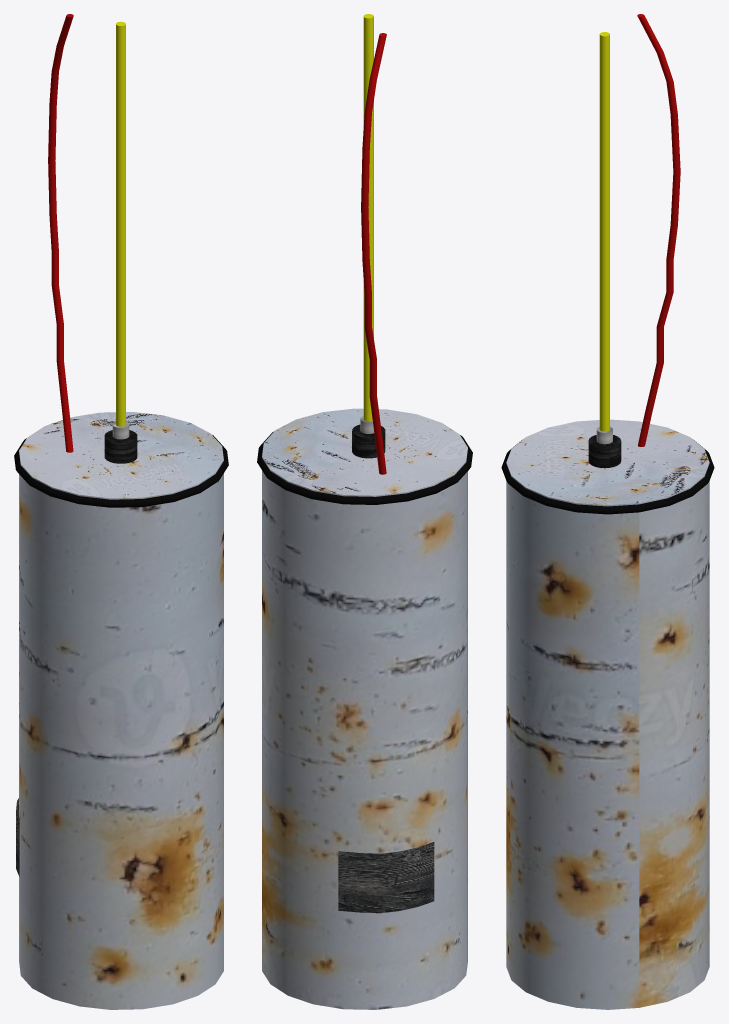
The model's file is David_boiler.fbx.
3 renders of one model, left to right at view 1: azimuth 30°, elevation 25°; view 2: azimuth 150°, elevation 25°; view 3: azimuth 270°, elevation 25°, orthographic.
Parts seen in each view (by area): view 1: pCylinder12, pCylinder15, pCylinder13, pTorus7, pCylinder16; view 2: pCylinder12, pCylinder14, pCylinder13, pCylinder15, pTorus7, pCylinder16; view 3: pCylinder12, pCylinder15, pCylinder13, pTorus7, pCylinder16.
Boxes of the visible parts, left/top/right/bottom form: pCylinder12: left=19, top=412, right=223, bottom=1009; pCylinder15: left=116, top=21, right=125, bottom=426; pCylinder13: left=48, top=14, right=73, bottom=452; pTorus7: left=14, top=435, right=228, bottom=507; pCylinder16: left=104, top=430, right=137, bottom=463; pCylinder12: left=262, top=408, right=467, bottom=1009; pCylinder14: left=338, top=842, right=434, bottom=913; pCylinder13: left=361, top=33, right=386, bottom=474; pCylinder15: left=363, top=14, right=373, bottom=420; pTorus7: left=257, top=431, right=472, bottom=504; pCylinder16: left=352, top=424, right=385, bottom=458; pCylinder12: left=506, top=419, right=709, bottom=1009; pCylinder15: left=599, top=32, right=609, bottom=431; pCylinder13: left=637, top=14, right=680, bottom=446; pTorus7: left=501, top=440, right=714, bottom=514; pCylinder16: left=588, top=435, right=621, bottom=468.
Size of the model in its own units: 3.2 by 15.49 by 3.2.
7 materials, 4 textured.
